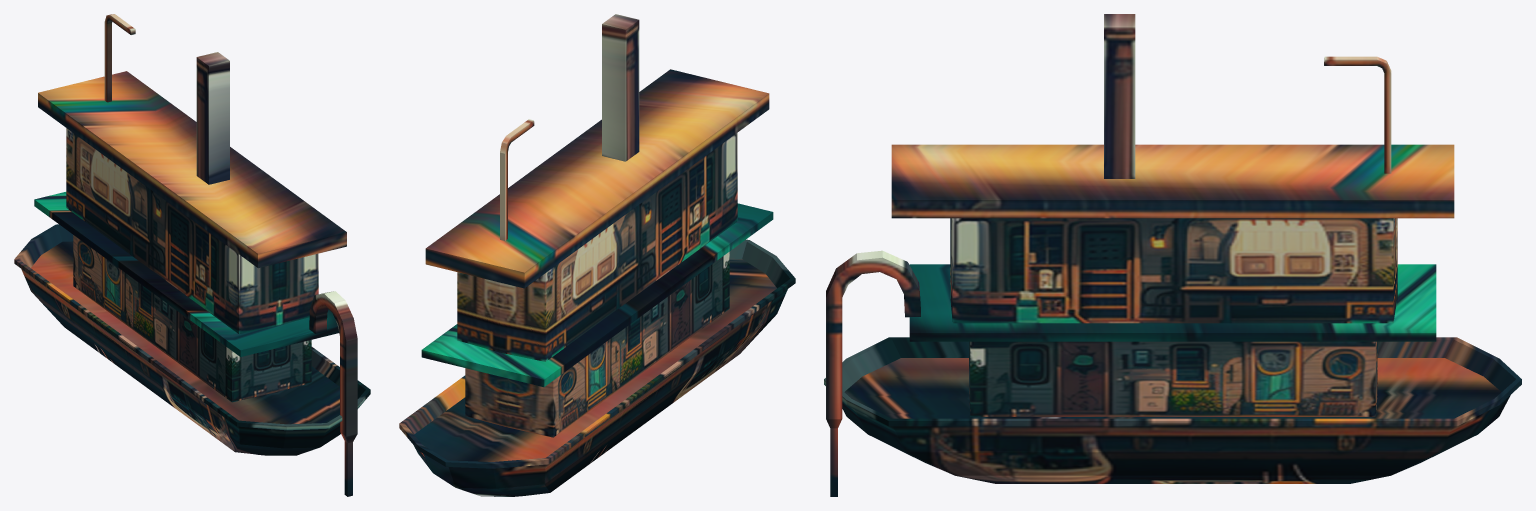
File: test_boat.glb
3 views of the same model, side by side, from view 1: azimuth 30°, elevation 25°; view 2: azimuth 150°, elevation 25°; view 3: azimuth 270°, elevation 25° (orthographic). The views are drawn at different scales.
Parts seen in each view (by area): view 1: Cube.005, Cube, Cube.003, Cube.001, Cube.002, Cube.006, Cube.004, Cube.007; view 2: Cube.005, Cube, Cube.003, Cube.001, Cube.002, Cube.006, Cube.007; view 3: Cube, Cube.003, Cube.005, Cube.001, Cube.002, Cube.004, Cube.006, Cube.007.
Part boxes in pixels (x1=…): Cube.005: x1=38, y1=71, x2=346, y2=268; Cube: x1=14, y1=224, x2=370, y2=455; Cube.003: x1=66, y1=128, x2=318, y2=334; Cube.001: x1=73, y1=235, x2=311, y2=402; Cube.002: x1=34, y1=192, x2=339, y2=356; Cube.006: x1=196, y1=52, x2=229, y2=184; Cube.004: x1=309, y1=291, x2=357, y2=496; Cube.007: x1=104, y1=14, x2=135, y2=102; Cube.005: x1=425, y1=69, x2=769, y2=288; Cube: x1=399, y1=239, x2=795, y2=496; Cube.003: x1=457, y1=133, x2=737, y2=361; Cube.001: x1=465, y1=252, x2=729, y2=437; Cube.002: x1=421, y1=203, x2=773, y2=386; Cube.006: x1=602, y1=14, x2=639, y2=161; Cube.007: x1=500, y1=119, x2=534, y2=240; Cube: x1=824, y1=337, x2=1521, y2=483; Cube.003: x1=950, y1=218, x2=1397, y2=323; Cube.005: x1=891, y1=144, x2=1454, y2=218; Cube.001: x1=969, y1=341, x2=1377, y2=416; Cube.002: x1=909, y1=264, x2=1436, y2=341; Cube.004: x1=826, y1=250, x2=920, y2=496; Cube.006: x1=1104, y1=14, x2=1135, y2=178; Cube.007: x1=1324, y1=56, x2=1391, y2=173.
Size of the model in its own units: 4.22 by 10.83 by 14.9.
1 material, 1 textured.
